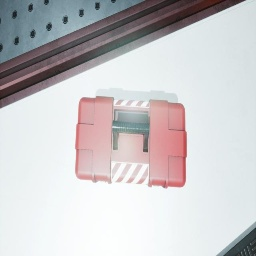FirstAidBox ,: (75, 96, 187, 189)
